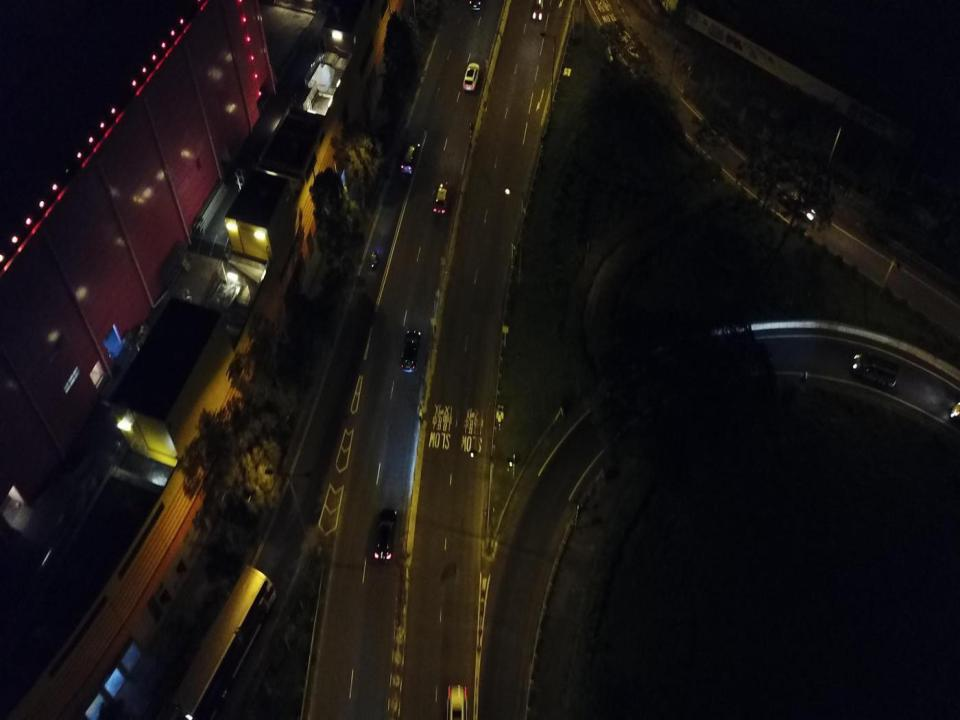bus: (170, 564, 276, 719)
car: (852, 353, 899, 388), (777, 185, 818, 221), (374, 511, 396, 561), (401, 331, 420, 372), (446, 684, 468, 719), (433, 182, 449, 213), (462, 63, 479, 92), (401, 144, 418, 173), (532, 0, 543, 20)
